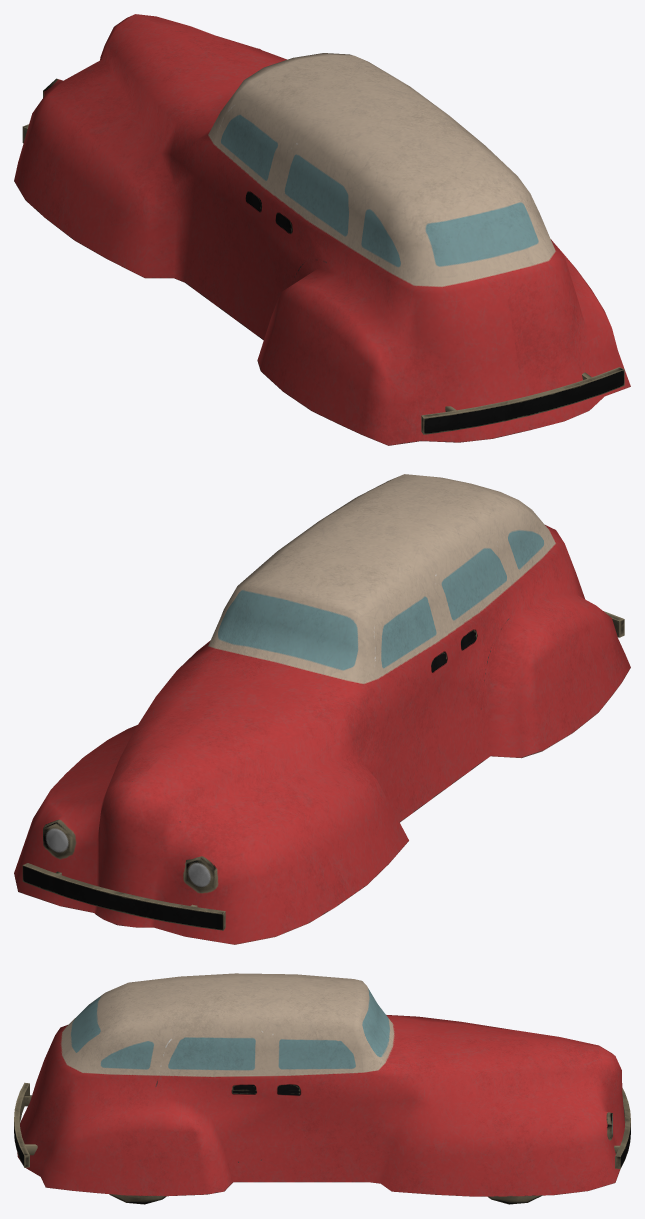
The model's file is toy_car.glb.
3 renders of one model, top to bottom at view 1: azimuth 30°, elevation 25°; view 2: azimuth 150°, elevation 25°; view 3: azimuth 270°, elevation 25°, orthographic. The views are drawn at different scales.
Parts seen in each view (by area): view 1: ToyCar; view 2: ToyCar; view 3: ToyCar.
Boxes of the visible parts, x1,y1,x2,y2 form: ToyCar: (14, 14, 630, 445); ToyCar: (14, 474, 630, 944); ToyCar: (14, 973, 630, 1204).
Size of the model in its own units: 0.3133 by 0.2497 by 0.7687.
Materials: 1 (1 with a texture image).
